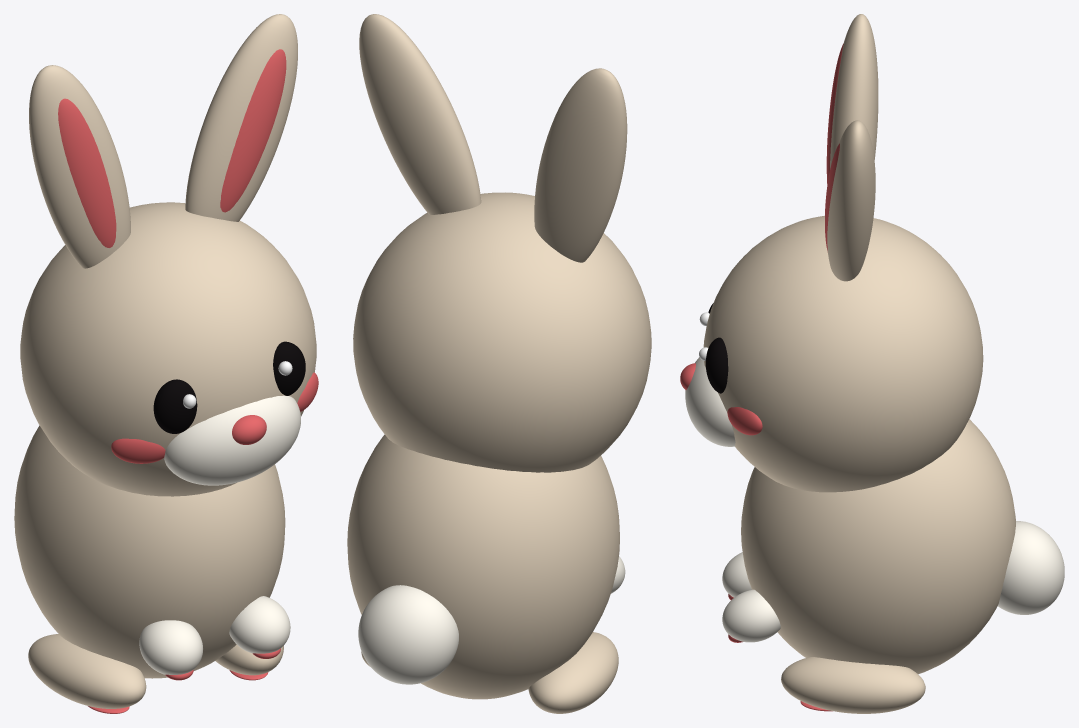
The model's file is tiny-bunny.obj.
3 views of the same model, side by side, from view 1: azimuth 30°, elevation 25°; view 2: azimuth 150°, elevation 25°; view 3: azimuth 270°, elevation 25° (orthographic). The views are drawn at different scales.
Parts seen in each view (by area): view 1: head, body, ear_outer_R, ear_outer_L, muzzle, foot_back_L, ear_inner_L, ear_inner_R, paw_front_L, paw_front_R, eye_L, eye_R (+3 smaller); view 2: head, body, ear_outer_R, ear_outer_L, tail, foot_back_L; view 3: head, body, foot_back_R, ear_outer_R, tail, ear_outer_L, muzzle, paw_front_R, eye_R, paw_front_L, cheek_R.
Part boxes in pixels (x1,y1,x2,y2): head: [20, 202, 316, 496]; body: [14, 425, 285, 678]; ear_outer_R: [185, 14, 297, 221]; ear_outer_L: [29, 65, 130, 268]; muzzle: [164, 395, 300, 485]; foot_back_L: [28, 634, 146, 708]; ear_inner_L: [58, 98, 116, 247]; ear_inner_R: [220, 49, 286, 212]; paw_front_L: [139, 620, 202, 674]; paw_front_R: [229, 596, 290, 653]; eye_L: [153, 379, 197, 433]; eye_R: [273, 341, 305, 395]; head: [353, 192, 651, 472]; body: [347, 434, 619, 699]; ear_outer_R: [359, 14, 481, 214]; ear_outer_L: [534, 68, 627, 262]; tail: [358, 585, 458, 684]; foot_back_L: [528, 632, 618, 713]; head: [703, 215, 983, 492]; body: [741, 419, 1015, 674]; foot_back_R: [781, 657, 925, 713]; ear_outer_R: [827, 120, 875, 281]; tail: [998, 521, 1064, 614]; ear_outer_L: [830, 14, 878, 169]; muzzle: [685, 357, 735, 446]; paw_front_R: [722, 589, 780, 642]; eye_R: [705, 337, 728, 393]; paw_front_L: [722, 552, 751, 597]; cheek_R: [727, 407, 762, 435].
Bounding box in the file's own units: 0.0575 × 0.1324 × 0.076.
